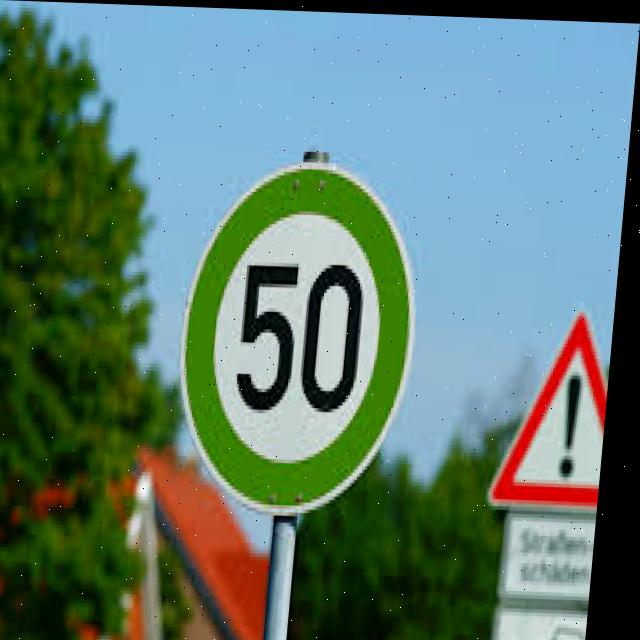Speed limit 50: (173, 147, 436, 517)
